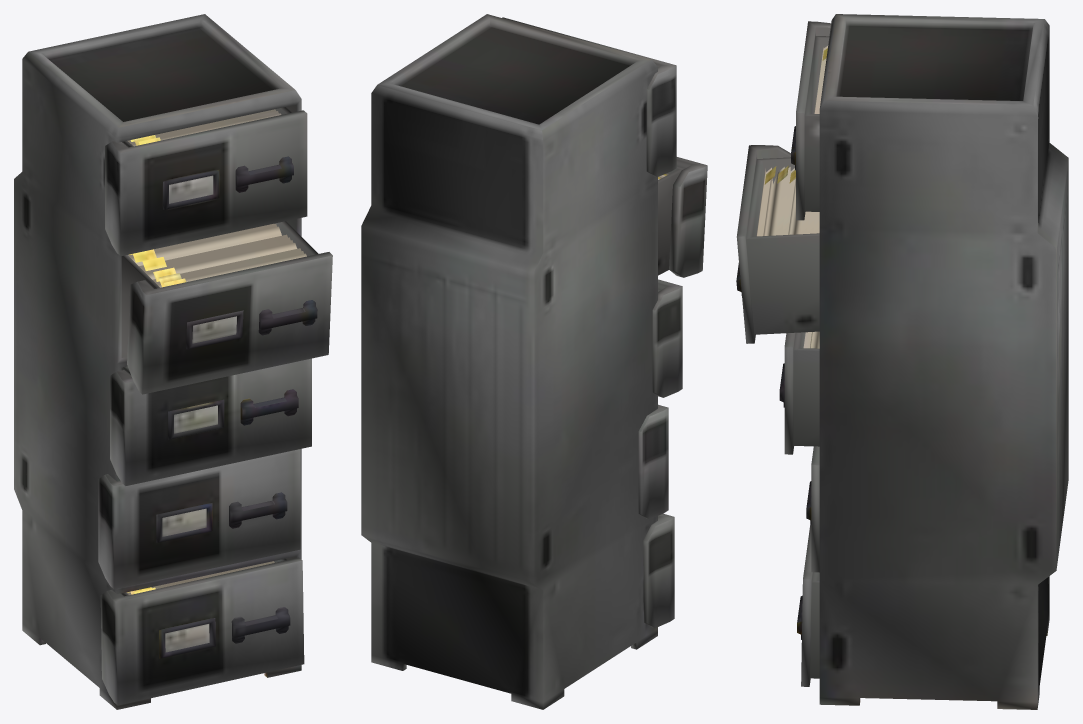
File: cabinet.glb
The picture shows the model from 3 angles, left to right: view 1: azimuth 30°, elevation 25°; view 2: azimuth 150°, elevation 25°; view 3: azimuth 270°, elevation 25°; orthographic projection. The views are drawn at different scales.
Parts seen in each view (by area): view 1: bakeObject.065_low.004_MAT_FilingCabinet_0, bakeObject.005_low.004_MAT_FilingCabinet_0, bakeObject.009_low.004_MAT_FilingCabinet_0, bakeObject.008_low.004_MAT_FilingCabinet_0, bakeObject.007_low.004_MAT_FilingCabinet_0, bakeObject.006_low.004_MAT_FilingCabinet_0; view 2: bakeObject.065_low.004_MAT_FilingCabinet_0, bakeObject.005_low.004_MAT_FilingCabinet_0, bakeObject.009_low.004_MAT_FilingCabinet_0, bakeObject.006_low.004_MAT_FilingCabinet_0, bakeObject.008_low.004_MAT_FilingCabinet_0, bakeObject.007_low.004_MAT_FilingCabinet_0; view 3: bakeObject.065_low.004_MAT_FilingCabinet_0, bakeObject.005_low.004_MAT_FilingCabinet_0, bakeObject.009_low.004_MAT_FilingCabinet_0, bakeObject.006_low.004_MAT_FilingCabinet_0, bakeObject.008_low.004_MAT_FilingCabinet_0, bakeObject.007_low.004_MAT_FilingCabinet_0.
Part boxes in pixels (bbox=[...]): bakeObject.065_low.004_MAT_FilingCabinet_0: bbox=[14, 14, 301, 709]; bakeObject.005_low.004_MAT_FilingCabinet_0: bbox=[121, 221, 332, 394]; bakeObject.009_low.004_MAT_FilingCabinet_0: bbox=[105, 107, 307, 256]; bakeObject.008_low.004_MAT_FilingCabinet_0: bbox=[100, 557, 304, 705]; bakeObject.007_low.004_MAT_FilingCabinet_0: bbox=[98, 449, 300, 589]; bakeObject.006_low.004_MAT_FilingCabinet_0: bbox=[110, 358, 311, 485]; bakeObject.065_low.004_MAT_FilingCabinet_0: bbox=[361, 14, 657, 709]; bakeObject.005_low.004_MAT_FilingCabinet_0: bbox=[658, 157, 707, 277]; bakeObject.009_low.004_MAT_FilingCabinet_0: bbox=[502, 17, 676, 176]; bakeObject.006_low.004_MAT_FilingCabinet_0: bbox=[652, 279, 682, 397]; bakeObject.008_low.004_MAT_FilingCabinet_0: bbox=[643, 513, 674, 627]; bakeObject.007_low.004_MAT_FilingCabinet_0: bbox=[638, 404, 668, 519]; bakeObject.065_low.004_MAT_FilingCabinet_0: bbox=[819, 14, 1068, 709]; bakeObject.005_low.004_MAT_FilingCabinet_0: bbox=[736, 145, 819, 343]; bakeObject.009_low.004_MAT_FilingCabinet_0: bbox=[791, 21, 830, 220]; bakeObject.006_low.004_MAT_FilingCabinet_0: bbox=[779, 331, 819, 454]; bakeObject.008_low.004_MAT_FilingCabinet_0: bbox=[797, 525, 819, 686]; bakeObject.007_low.004_MAT_FilingCabinet_0: bbox=[806, 446, 819, 572].
Bounding box in the file's own units: 0.6324 × 1.75 × 0.8749.
1 material, 1 textured.
